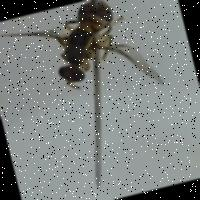Oriental-fruit-fly: (0, 0, 172, 147)
